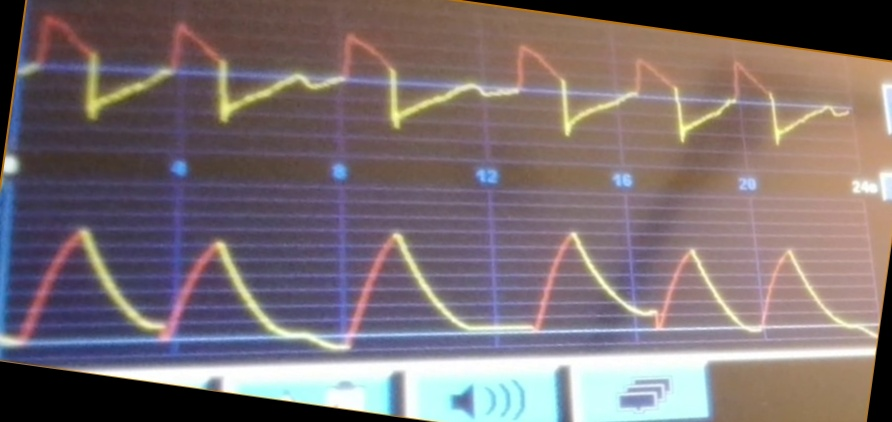Ineffective_effort Flow: (24, 15, 851, 149)
Ineffective_effort Volume: (8, 213, 876, 352)
